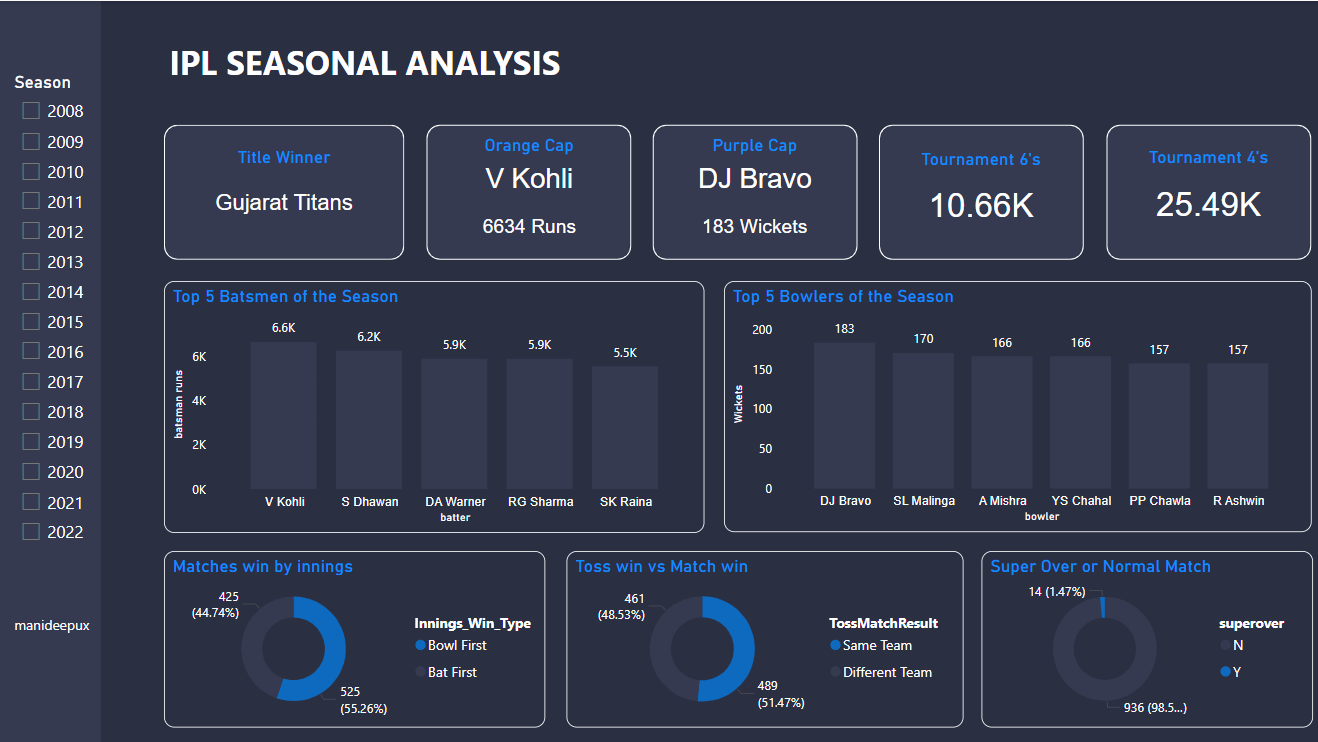

This screenshot's page, from the dashboard's own definition file:
{"tool":"powerbi","page":{"name":"Seasonal Analysis","canvas":[1280,720],"ordinal":0},"visuals":[{"type":"shape","box":[0,0,98.8,720.4],"z":0},{"type":"textbox","box":[159.3,32.6,409,67.6],"z":1000},{"type":"slicer","title":"Season","fields":{"Values":["Calender Table.Year"]},"box":[9.6,67.2,89.2,483],"z":2000},{"type":"shape","box":[159.2,119.4,231.9,130.4],"z":3000},{"type":"card","title":"Title Winner","fields":{"Values":["ipl_matches_2008_2022.Title Winner"]},"box":[174.3,140,203.1,91.9],"z":4000},{"type":"shape","box":[413,119.4,197.6,130.4],"z":5000},{"type":"card","title":"Orange Cap","fields":{"Values":["ipl_ball_by_ball_2008_2022.batter"]},"box":[418.5,129,186.6,65.9],"z":6000},{"type":"card","title":"Orange Cap","fields":{"Values":["ipl_ball_by_ball_2008_2022.Batter runs"]},"box":[455.6,196.2,112.5,43.9],"z":7000},{"type":"clusteredColumnChart","title":"Top 5 Batsmen of the Season","fields":{"Y":["ipl_ball_by_ball_2008_2022.batsman runs"],"Category":["ipl_ball_by_ball_2008_2022.batter"]},"box":[159.2,270.3,521.4,242.9],"z":8000},{"type":"clusteredColumnChart","title":"Top 5 Bowlers of the Season","fields":{"Y":["ipl_ball_by_ball_2008_2022.Wickets"],"Category":["ipl_ball_by_ball_2008_2022.bowler"]},"box":[699.7,270.2,567,242.5],"z":9000},{"type":"shape","box":[631.2,119.4,197.6,130.4],"z":10000},{"type":"card","title":"Purple Cap","fields":{"Values":["ipl_ball_by_ball_2008_2022.bowler"]},"box":[642.2,129,175.6,65.9],"z":11000},{"type":"card","title":"Purple Cap","fields":{"Values":["ipl_ball_by_ball_2008_2022.Bowler wickets"]},"box":[642.2,185.2,175.6,65.9],"z":12000},{"type":"shape","box":[849.4,119.4,197.6,130.4],"z":13000},{"type":"shape","box":[1069,119.4,197.6,130.4],"z":14000},{"type":"card","title":"Tournament 6''s","fields":{"Values":["ipl_ball_by_ball_2008_2022.batsman_run"]},"box":[860.4,142.7,175.6,89.2],"z":15000},{"type":"card","title":"Tournament 4''s","fields":{"Values":["ipl_ball_by_ball_2008_2022.batsman_run"]},"box":[1079.9,140,175.6,91.9],"z":16000},{"type":"donutChart","title":"Matches win by innings","fields":{"Category":["ipl_matches_2008_2022.Innings_Win_Type"],"Y":["ipl_matches_2008_2022.id"]},"box":[159.2,531,367.8,170.2],"z":17000},{"type":"donutChart","title":"Toss win vs Match win","fields":{"Category":["ipl_matches_2008_2022.TossMatchResult"],"Y":["ipl_matches_2008_2022.id"]},"box":[547.5,531,382.8,170.2],"z":18000},{"type":"donutChart","title":"Super Over or Normal Match","fields":{"Category":["ipl_matches_2008_2022.superover"],"Y":["ipl_matches_2008_2022.id"]},"box":[948.2,531,319.7,170.2],"z":19000},{"type":"textbox","box":[9.7,587.5,101.3,57.9],"z":19001}]}

Visuals, with their boxes in screenshot pixels (x1, y1, x2, y2), scaled from the page's 1280x720 canvas onto the 1318x742 screenshot:
shape: region(0, 0, 102, 741)
textbox: region(164, 34, 585, 103)
"Season" slicer: region(10, 69, 102, 567)
shape: region(164, 123, 403, 257)
"Title Winner" card: region(179, 144, 389, 239)
shape: region(425, 123, 629, 257)
"Orange Cap" card: region(431, 133, 623, 201)
"Orange Cap" card: region(469, 202, 585, 247)
"Top 5 Batsmen of the Season" clusteredColumnChart: region(164, 279, 701, 529)
"Top 5 Bowlers of the Season" clusteredColumnChart: region(720, 278, 1304, 528)
shape: region(650, 123, 853, 257)
"Purple Cap" card: region(661, 133, 842, 201)
"Purple Cap" card: region(661, 191, 842, 259)
shape: region(875, 123, 1078, 257)
shape: region(1101, 123, 1304, 257)
"Tournament 6''s" card: region(886, 147, 1067, 239)
"Tournament 4''s" card: region(1112, 144, 1293, 239)
"Matches win by innings" donutChart: region(164, 547, 543, 723)
"Toss win vs Match win" donutChart: region(564, 547, 958, 723)
"Super Over or Normal Match" donutChart: region(976, 547, 1306, 723)
textbox: region(10, 605, 114, 665)
